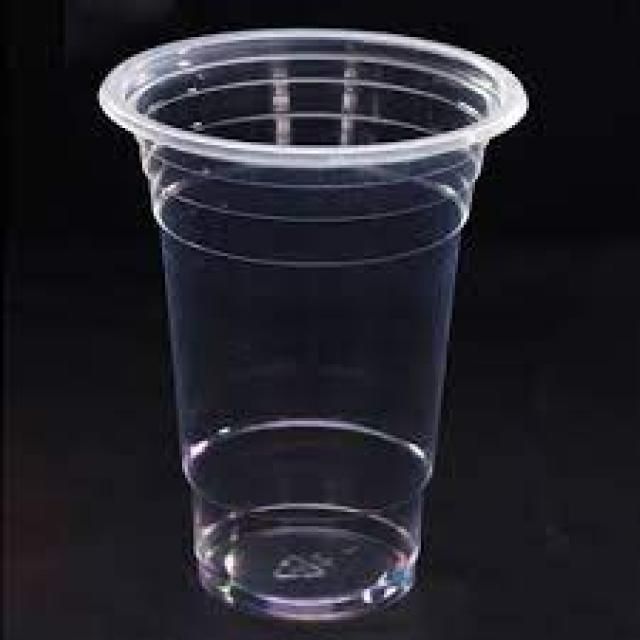plastic: (99, 30, 526, 621)
